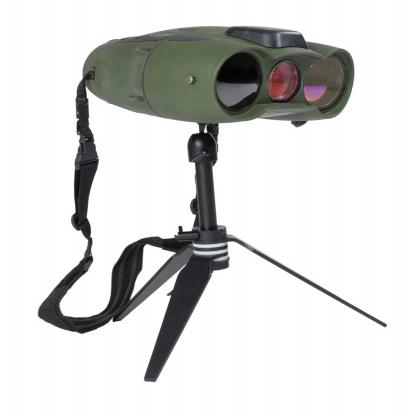Camera: (79, 22, 355, 139)
